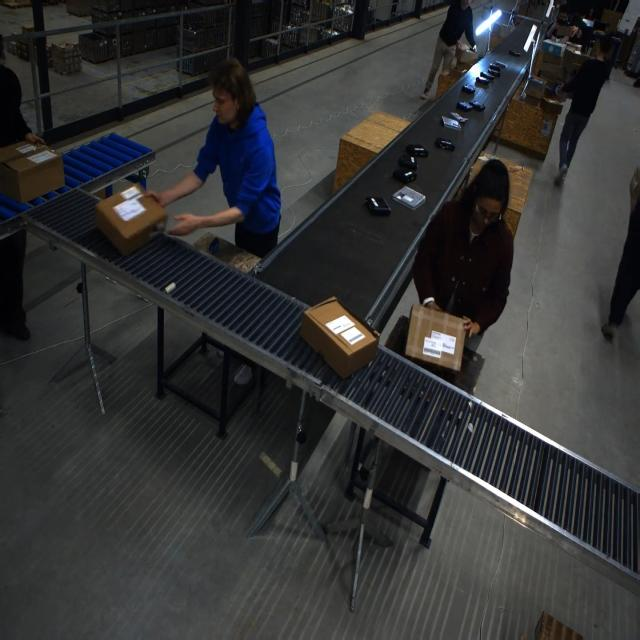box: (301, 294, 377, 377), (94, 184, 168, 256), (404, 303, 465, 373), (0, 139, 64, 205), (560, 46, 593, 80), (522, 76, 545, 101), (538, 54, 562, 75), (456, 46, 480, 67), (540, 95, 563, 116), (538, 65, 560, 85), (552, 25, 574, 43)
product: (391, 186, 425, 210), (364, 196, 390, 216), (392, 167, 417, 184), (405, 144, 428, 158), (398, 154, 417, 170), (440, 116, 461, 130), (434, 138, 455, 151), (448, 112, 468, 123), (469, 100, 485, 111), (456, 101, 473, 111), (462, 84, 476, 93), (486, 69, 500, 78), (492, 61, 507, 69), (475, 76, 488, 85), (479, 72, 492, 81), (508, 50, 521, 57)
